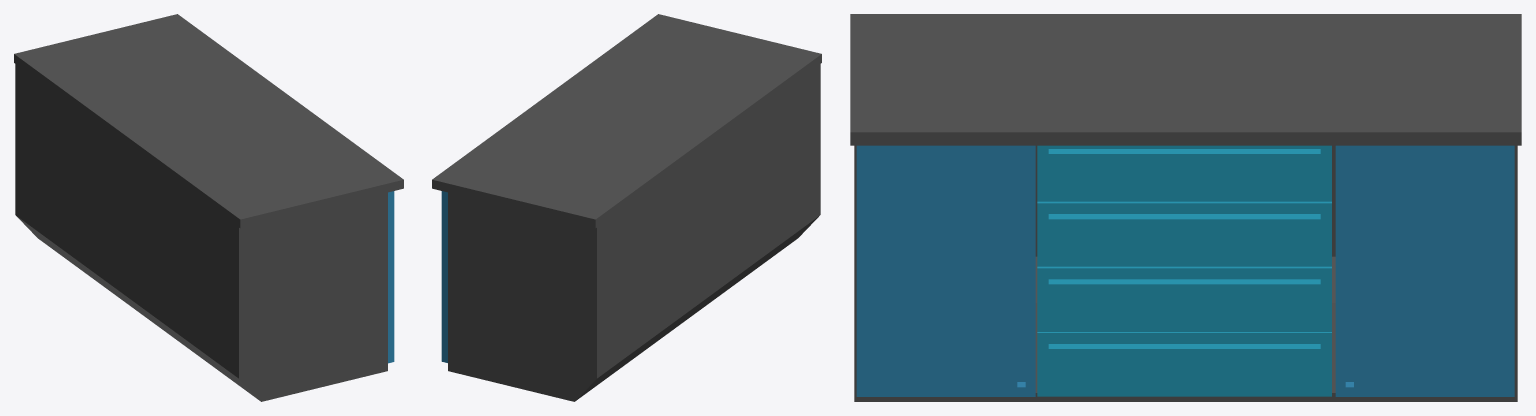
Rendered from dresser_tier12.fbx.
3 renders of one model, left to right at view 1: azimuth 30°, elevation 25°; view 2: azimuth 150°, elevation 25°; view 3: azimuth 270°, elevation 25°, orthographic. The views are drawn at different scales.
Parts seen in each view (by area): view 1: Cube.022, Cube.021, Cube.004; view 2: Cube.022, Cube.021, Cube.005; view 3: Cube.021, Cube.004, Cube.005, Cube.001, Cube.002, Cube.003, Cube, Cube.022.
Boxes of the visible parts, x1,y1,x2,y2 form: Cube.022: [15, 64, 387, 401]; Cube.021: [14, 14, 403, 228]; Cube.004: [388, 191, 394, 363]; Cube.022: [448, 64, 820, 401]; Cube.021: [432, 14, 821, 228]; Cube.005: [441, 191, 447, 362]; Cube.021: [850, 14, 1521, 145]; Cube.004: [856, 145, 1035, 396]; Cube.005: [1335, 145, 1514, 396]; Cube.001: [1037, 201, 1331, 266]; Cube.002: [1037, 266, 1331, 331]; Cube.003: [1037, 332, 1331, 396]; Cube: [1037, 145, 1331, 201]; Cube.022: [854, 145, 1517, 401].
Bounding box in the file's own units: 91.67 × 101 × 220.
